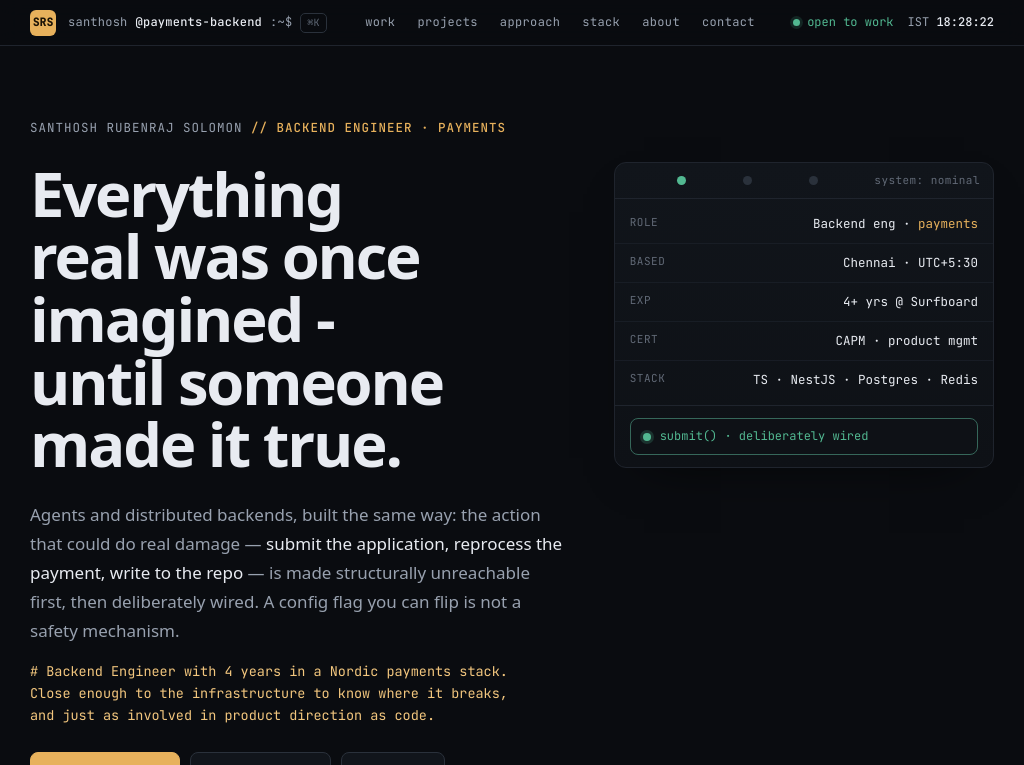
commands › help prints all commands except itself
The image size is (1024, 765).
Click the button titled "Command palette (⌘K)": (197, 22) x1=68 y1=12 x2=327 y2=32
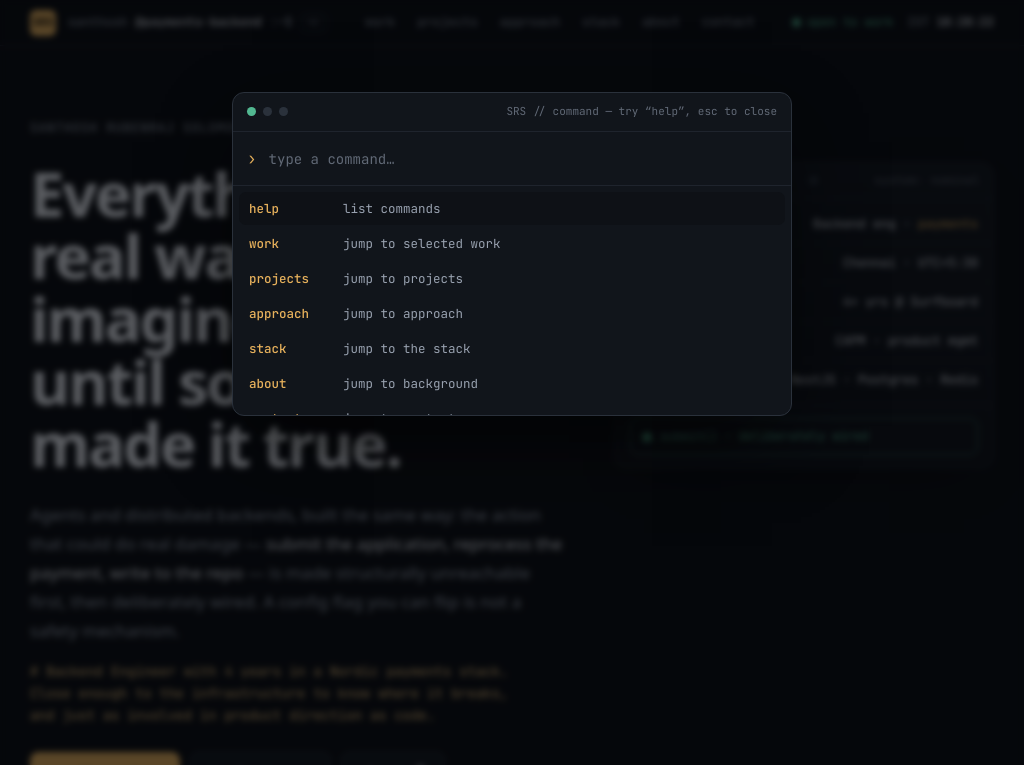
In the field labelled "command": (522, 158) x1=267 y1=148 x2=777 y2=168, type "help"
Then press Enter
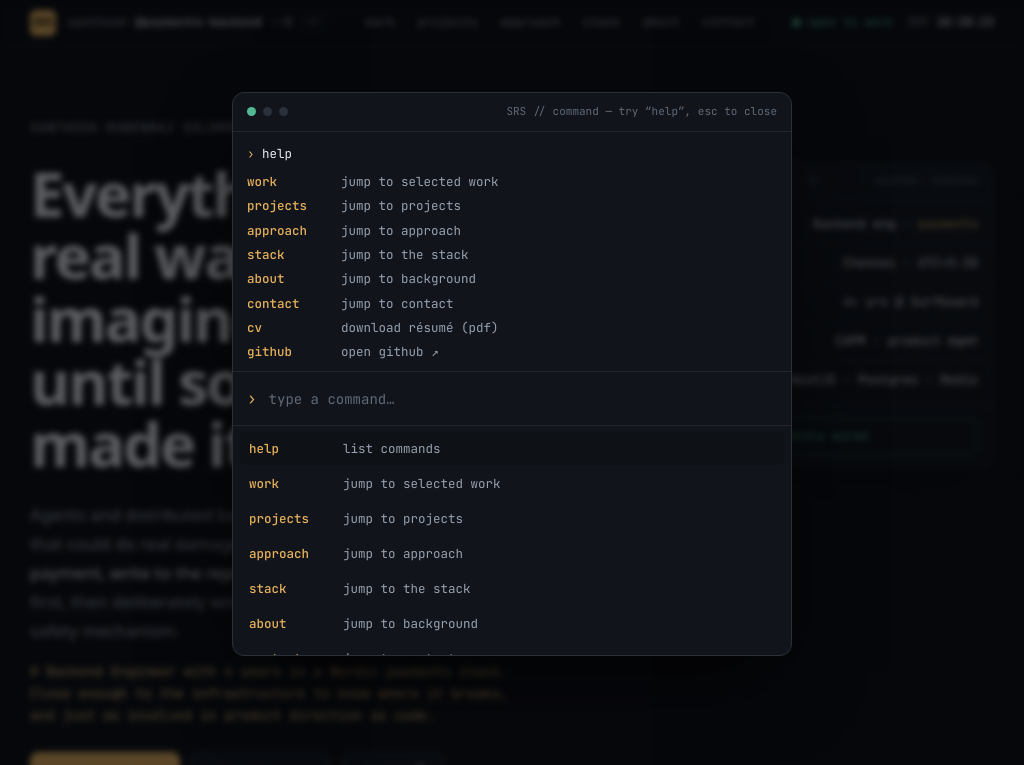
Check: the field labelled "command" is empty, box x1=267 y1=388 x2=777 y2=408
Check: the element showing "› help" is shown, box x1=247 y1=145 x2=292 y2=162
